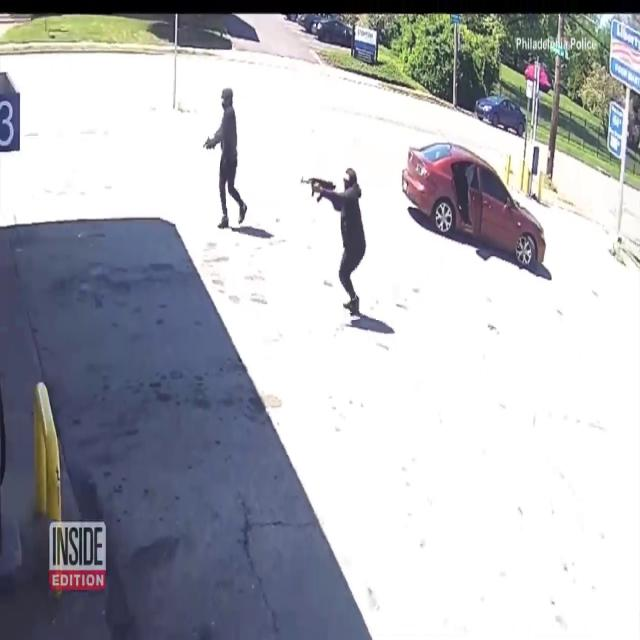penembakan: (298, 162, 372, 322), (202, 82, 252, 236)
